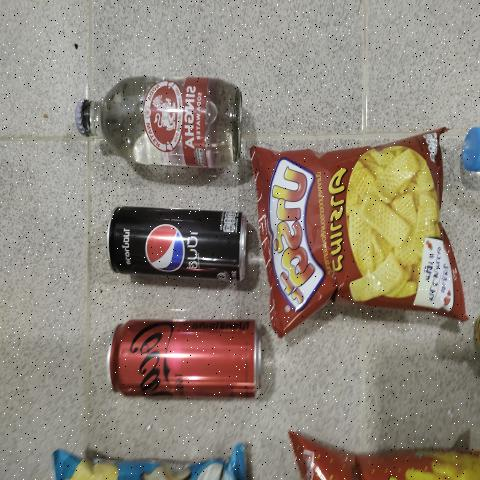coke_red: (107, 326, 268, 398)
party_red: (275, 134, 449, 314)
pepsi_black: (101, 208, 255, 278)
singha_soda: (75, 64, 251, 188)
